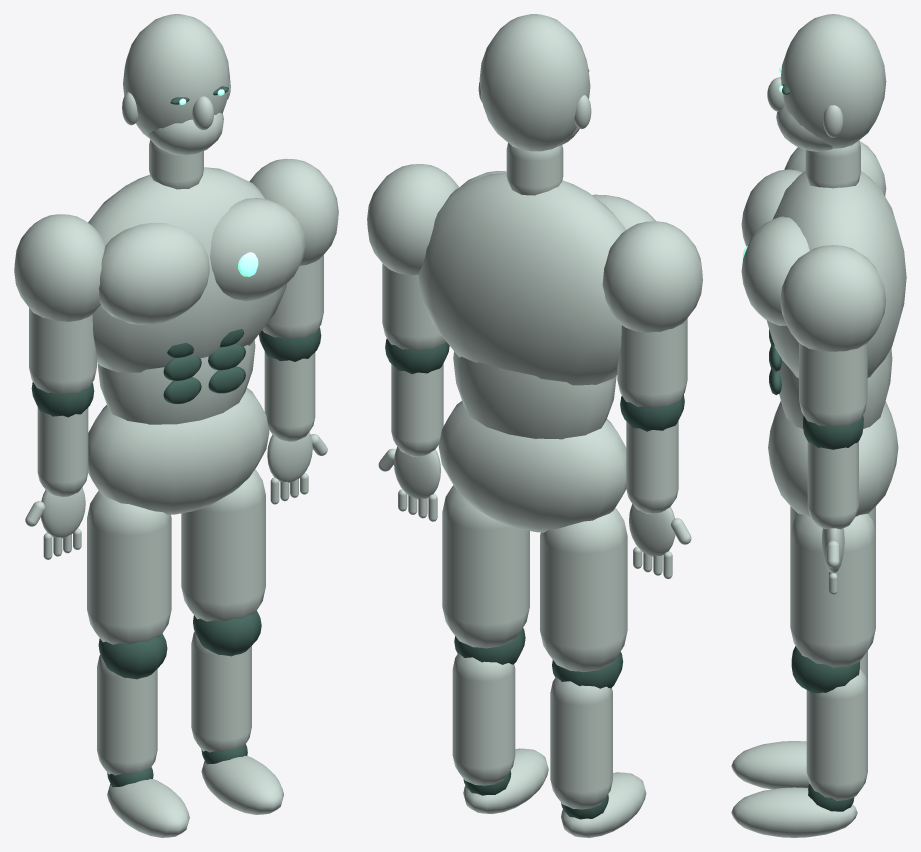
Rendered from twin.glb.
3 renders of one model, left to right at view 1: azimuth 30°, elevation 25°; view 2: azimuth 150°, elevation 25°; view 3: azimuth 270°, elevation 25°, orthographic. The views are drawn at different scales.
Visible parts, largest first — view 1: Thigh (×2), Ribcage, Pelvis, Shoulder (×2), Calf (×2), PectoralRight, Skull, Forearm (×2), UpperArm (×2), PectoralLeft, Foot (×2), Abdomen (+6 smaller); view 2: Ribcage, Thigh (×2), Pelvis, Shoulder (×2), Calf (×2), Skull, Abdomen, UpperArm (×2), Forearm (×2), Foot (×2), Palm (×2), Elbow (×2) (+3 smaller); view 3: Thigh, Ribcage, Skull, Shoulder (×2), Foot (×2), Calf, Pelvis, UpperArm, PectoralLeft, Forearm, Abdomen, Neck (+9 smaller).
Part boxes in pixels (left/top/right/bottom): Thigh (×2): left=87, top=469, right=265, bottom=644; Ribcage: left=88, top=167, right=286, bottom=372; Pelvis: left=88, top=388, right=269, bottom=514; Shoulder (×2): left=14, top=158, right=338, bottom=321; Calf (×2): left=97, top=631, right=251, bottom=775; PectoralRight: left=99, top=223, right=209, bottom=324; Skull: left=123, top=14, right=229, bottom=137; Forearm (×2): left=37, top=351, right=315, bottom=497; UpperArm (×2): left=29, top=255, right=323, bottom=394; PectoralLeft: left=210, top=198, right=306, bottom=301; Foot (×2): left=107, top=755, right=283, bottom=837; Abdomen: left=97, top=340, right=255, bottom=424; Ribcage: left=418, top=172, right=626, bottom=385; Thigh (×2): left=442, top=485, right=627, bottom=672; Pelvis: left=438, top=401, right=626, bottom=532; Shoulder (×2): left=367, top=164, right=702, bottom=332; Calf (×2): left=452, top=653, right=612, bottom=809; Skull: left=479, top=14, right=590, bottom=151; Abdomen: left=453, top=351, right=616, bottom=439; UpperArm (×2): left=382, top=263, right=687, bottom=408; Forearm (×2): left=391, top=363, right=678, bottom=514; Foot (×2): left=463, top=748, right=646, bottom=837; Palm (×2): left=394, top=447, right=675, bottom=556; Elbow (×2): left=385, top=338, right=684, bottom=431; Thigh: left=790, top=513, right=875, bottom=667; Ribcage: left=766, top=171, right=906, bottom=377; Skull: left=780, top=14, right=886, bottom=148; Shoulder (×2): left=780, top=141, right=886, bottom=351; Foot (×2): left=731, top=741, right=857, bottom=837; Calf: left=806, top=668, right=867, bottom=800; Pelvis: left=768, top=401, right=898, bottom=516; UpperArm: left=799, top=343, right=867, bottom=426; PectoralLeft: left=741, top=216, right=809, bottom=325; Forearm: left=807, top=441, right=858, bottom=529; Abdomen: left=779, top=348, right=892, bottom=428; Neck: left=805, top=140, right=860, bottom=188.
Size of the model in its own units: 0.89 by 2.15 by 0.43.
